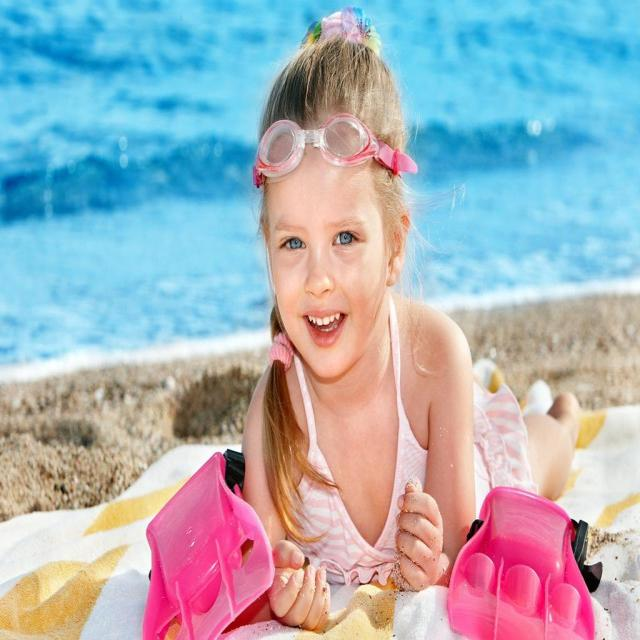Face: (262, 108, 398, 374)
